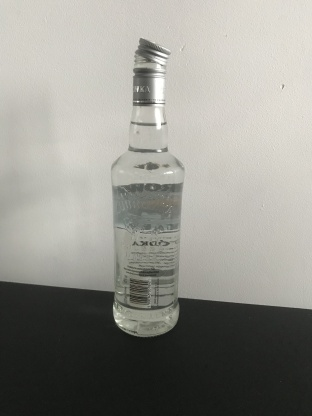nakretka: (130, 34, 172, 106)
